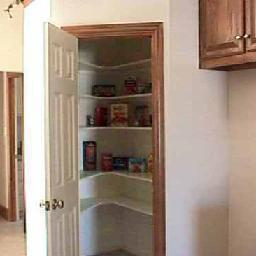Puerta: (43, 23, 77, 255)
